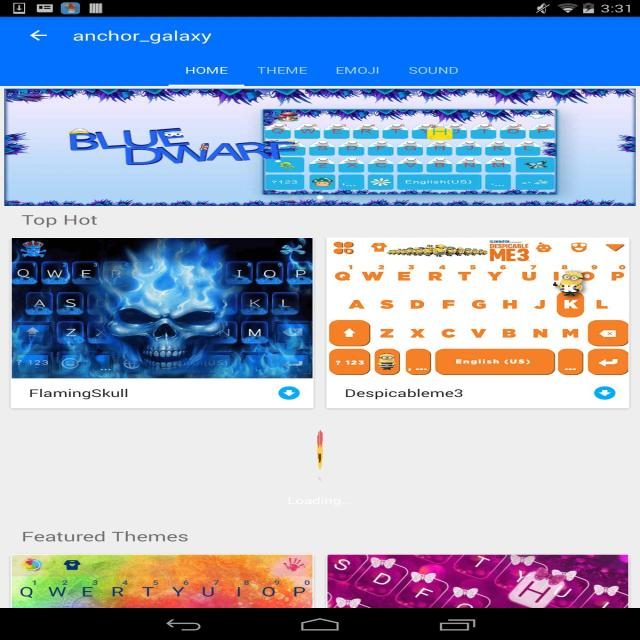button: (12, 238, 314, 409), (327, 238, 628, 408), (246, 59, 318, 85), (400, 58, 464, 85), (172, 60, 240, 85), (328, 59, 387, 85), (29, 26, 48, 46), (594, 386, 617, 402), (278, 385, 300, 401)
heading: (70, 29, 214, 47), (22, 530, 190, 544), (20, 213, 99, 230)
image: (2, 88, 636, 206), (13, 238, 313, 378), (327, 238, 628, 375), (328, 555, 628, 608), (14, 556, 313, 608)
text: (64, 127, 300, 167), (345, 387, 465, 400), (29, 388, 129, 400), (285, 495, 342, 507)
